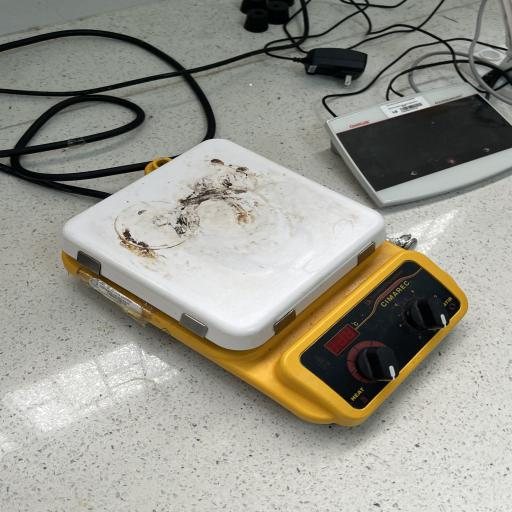Phmetro_Ohaus: (301, 84, 509, 198)
Plancha_Agitacion_Cimarec: (30, 124, 469, 430)
